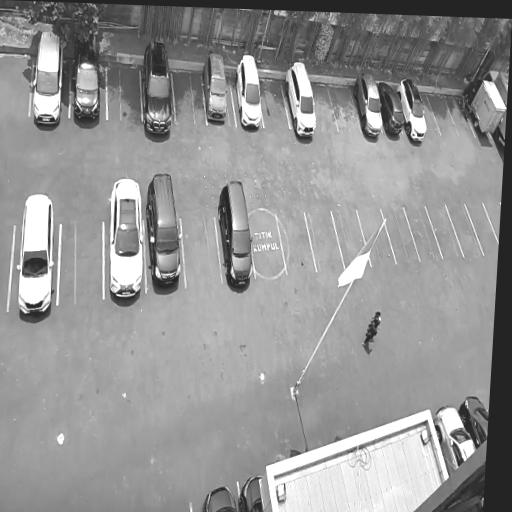Car: (101, 169, 154, 311), (10, 186, 63, 327), (141, 163, 190, 296), (136, 32, 184, 144), (216, 172, 257, 293), (29, 21, 70, 133), (67, 31, 108, 131), (280, 56, 320, 144), (462, 70, 507, 142), (396, 72, 430, 151), (231, 51, 263, 134), (201, 48, 233, 129), (349, 69, 386, 139), (378, 71, 407, 139), (239, 468, 280, 512), (197, 481, 240, 512), (0, 192, 2, 331)
Space Available: (58, 221, 104, 304), (180, 214, 220, 286), (248, 213, 286, 278), (306, 212, 345, 271), (381, 206, 422, 262), (333, 210, 372, 268), (358, 209, 397, 267), (279, 213, 316, 273), (107, 58, 142, 120), (426, 204, 464, 261), (445, 202, 483, 259), (405, 205, 442, 263), (171, 68, 207, 123), (465, 202, 499, 252), (259, 76, 291, 129), (328, 84, 360, 129), (426, 93, 459, 134), (312, 82, 339, 131), (419, 89, 442, 133), (484, 202, 499, 240)
